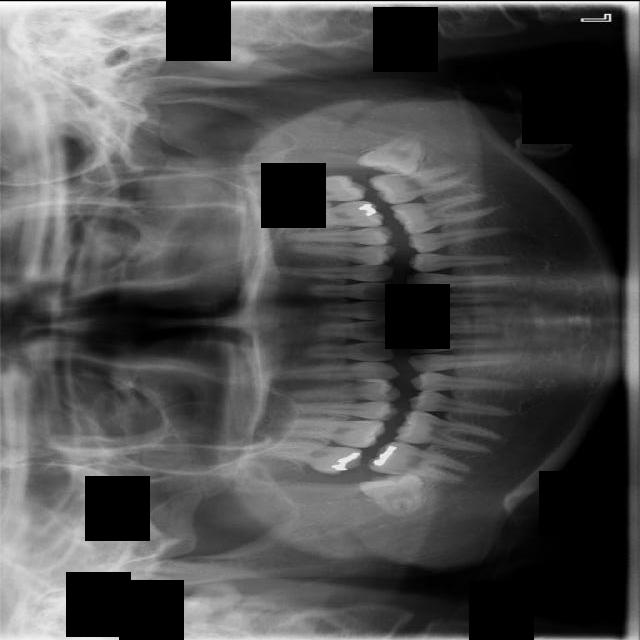52: (364, 427, 421, 485), (310, 436, 367, 481), (335, 194, 387, 230)
73: (617, 4, 627, 15)
BioHorizons Implant: (244, 171, 370, 209)
Biomet 3i Implant: (354, 127, 434, 194)
Blue Sky Bio Implant: (367, 162, 473, 207)
Caries: (247, 432, 364, 478)
Implant: (365, 435, 471, 485)
Keystone Dental Implant: (358, 470, 425, 518)
